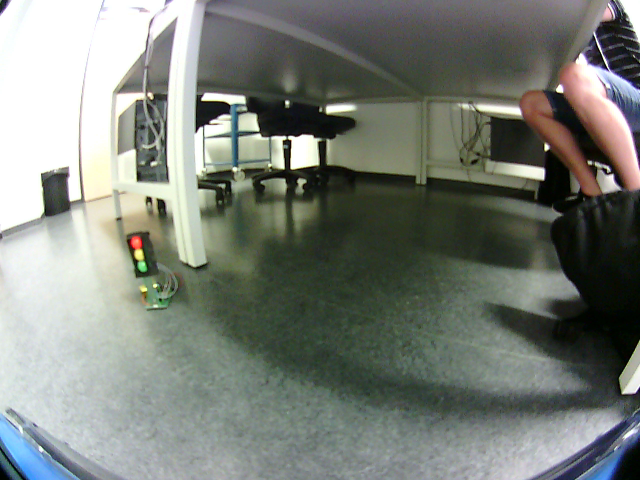red trafficlight: (128, 233, 153, 281)
